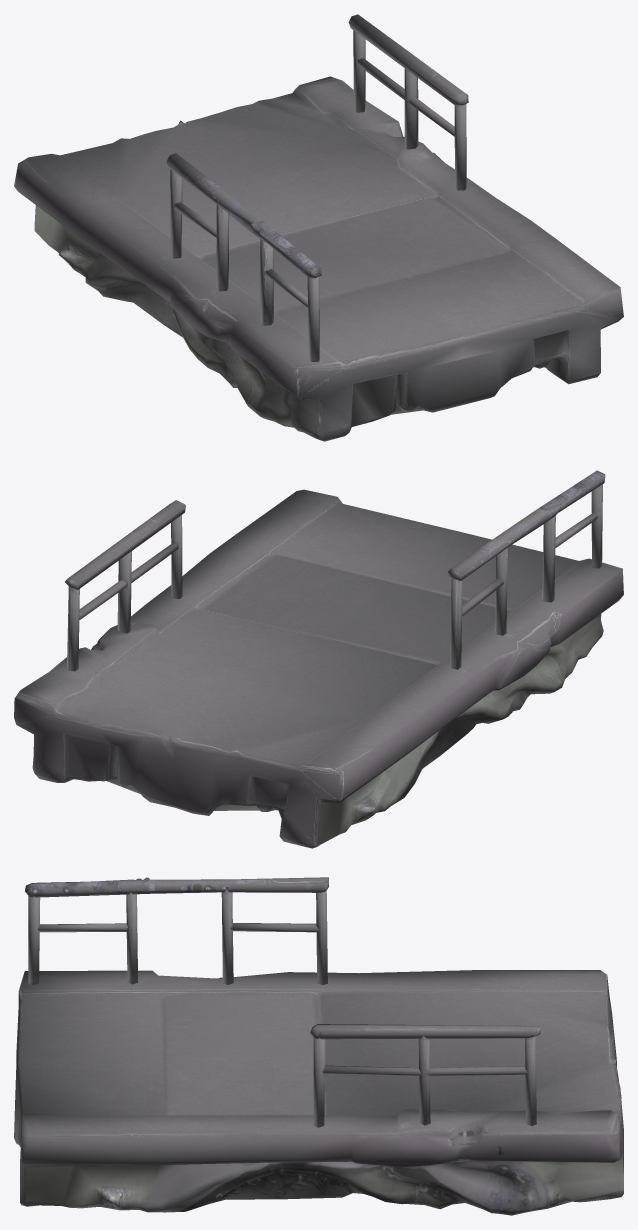
Rendered from tripo_convert_797b05f4-ad9e-49e8-a5cf-b37344572b1e.fbx.
3 views of the same model, one above another, from view 1: azimuth 30°, elevation 25°; view 2: azimuth 150°, elevation 25°; view 3: azimuth 270°, elevation 25° (orthographic). The views are drawn at different scales.
Visible parts, largest first — view 1: tripo_node_797b05f4; view 2: tripo_node_797b05f4; view 3: tripo_node_797b05f4.
Part boxes in pixels (<box>): tripo_node_797b05f4: <box>14,14,623,441</box>; tripo_node_797b05f4: <box>14,470,623,848</box>; tripo_node_797b05f4: <box>14,877,623,1215</box>.
Bounding box in the file's own units: 0.6504 × 0.3574 × 0.998.
Materials: 1 (1 with a texture image).
